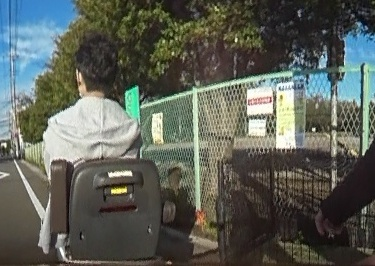person: (45, 35, 146, 261)
